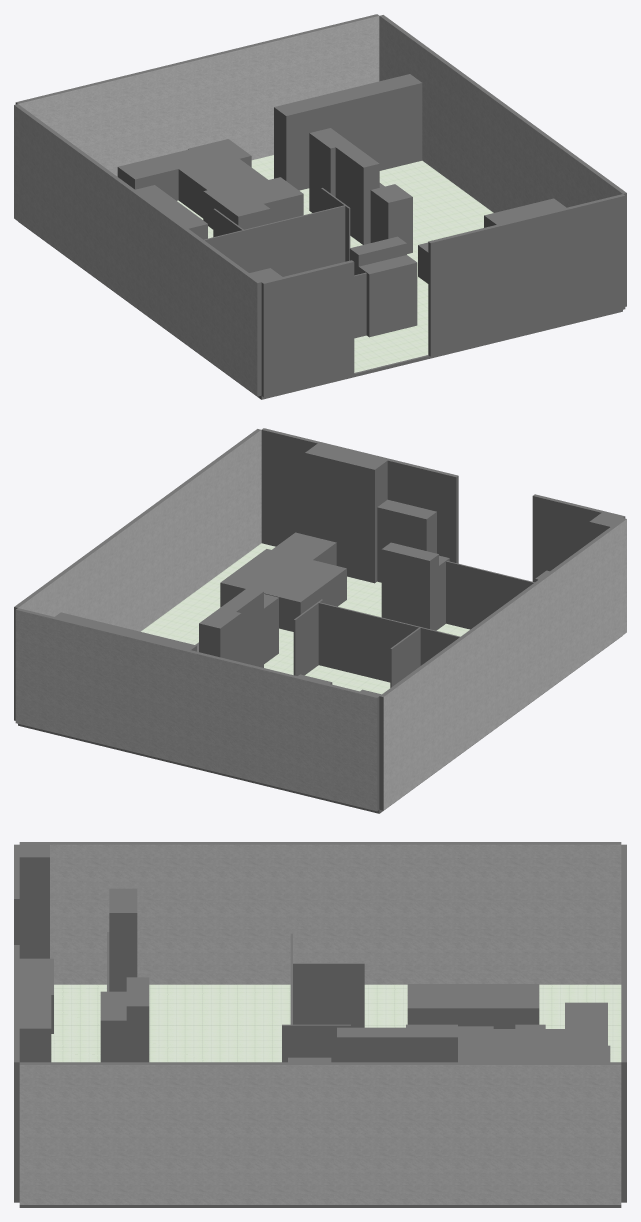
Rendered from lab0_2.gltf.
The picture shows the model from 3 angles, top to bottom: view 1: azimuth 30°, elevation 25°; view 2: azimuth 150°, elevation 25°; view 3: azimuth 270°, elevation 25°; orthographic projection. The views are drawn at different scales.
Visible parts, largest first — view 1: root; view 2: root; view 3: root.
Boxes of the visible parts, box(x1,y1,x2,y2) form: root: box(14, 14, 626, 399); root: box(14, 428, 626, 813); root: box(14, 842, 626, 1207).
Bounding box in the file's own units: 9.2 × 2.8 × 10.7.
3 materials, 2 textured.
